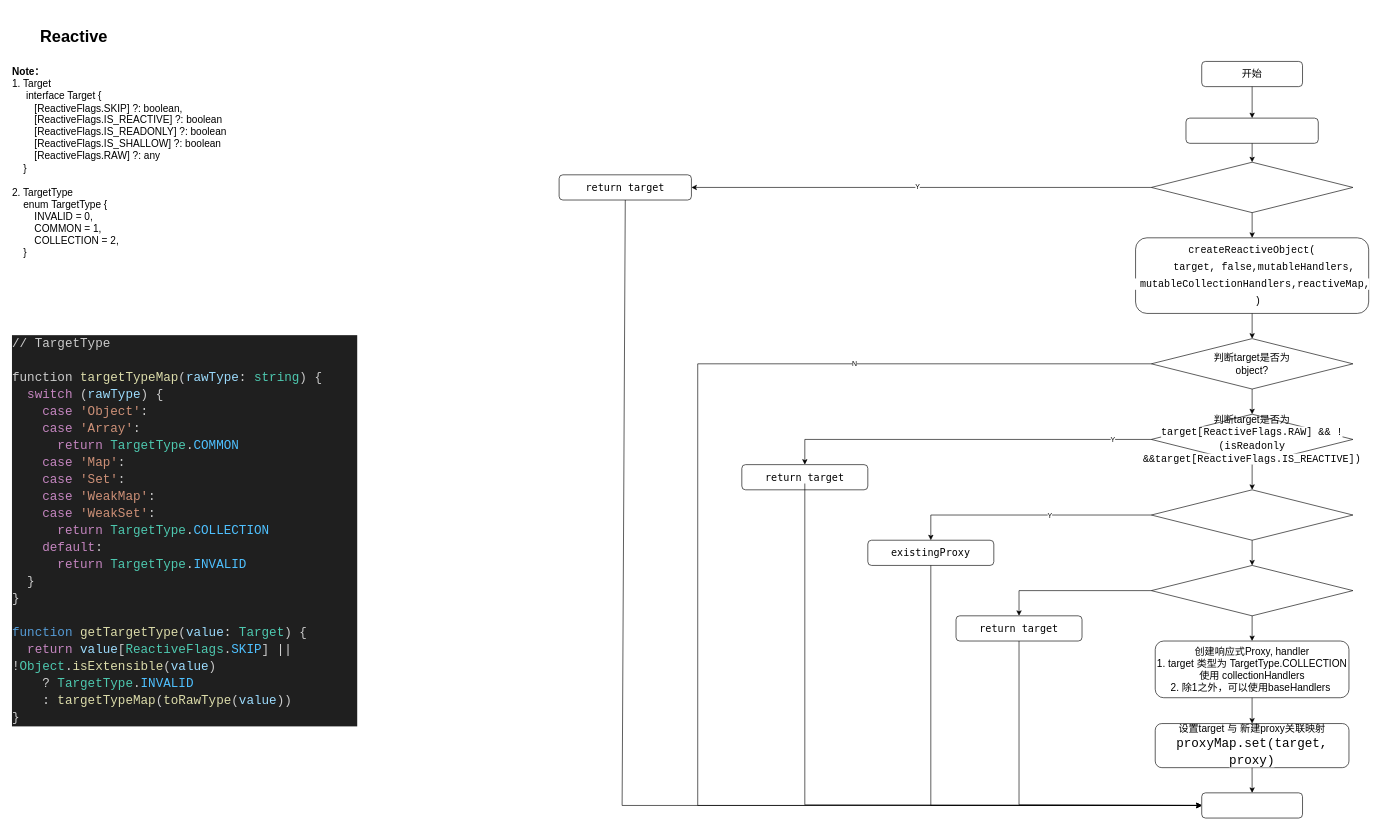
Some shapes in this 1380 by 829 pixel diagram are drawn without their labels. The centre of each missing label's shape, as x and y in pixels:
"reactive(target: object)" belongs at (x=1251, y=130).
"判断target是否 存在对应的响应式 Proxy？" belongs at (x=1252, y=514).
"判断target是否为 readonly?" belongs at (x=1252, y=187).
"判断target是否为Target.INVALID ？" belongs at (x=1252, y=590).
"结束" belongs at (x=1252, y=805).
